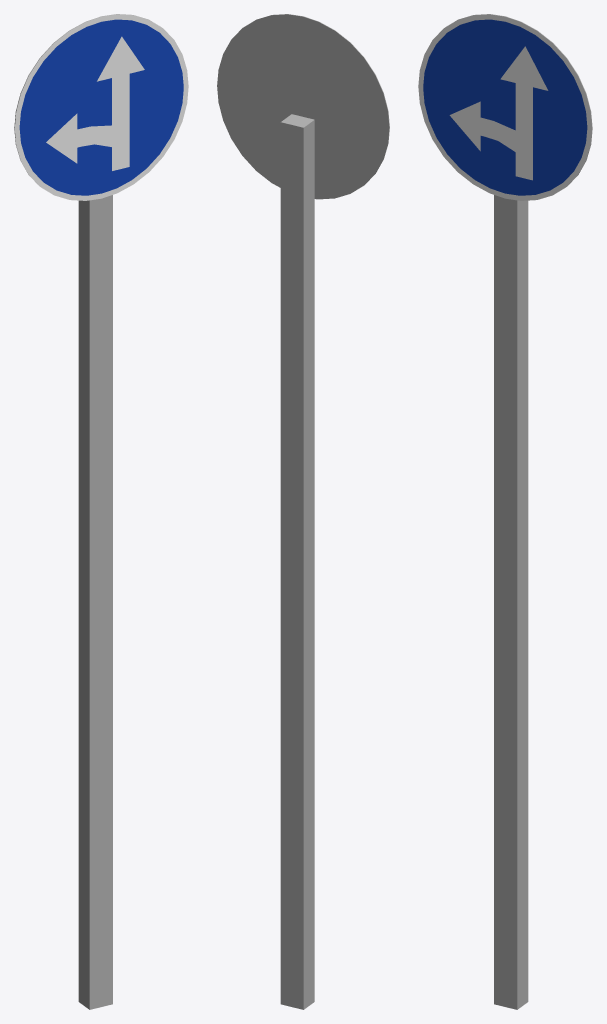
File: lft.DAE
3 views of the same model, side by side, from view 1: azimuth 30°, elevation 25°; view 2: azimuth 150°, elevation 25°; view 3: azimuth 330°, elevation 25° (orthographic).
Visible parts, largest first — view 1: solaFBXASC032ileri; view 2: solaFBXASC032ileri; view 3: solaFBXASC032ileri.
Boxes of the visible parts, box(x1,y1,x2,y2) form: solaFBXASC032ileri: box(14, 14, 188, 1009); solaFBXASC032ileri: box(217, 14, 389, 1009); solaFBXASC032ileri: box(418, 14, 592, 1009).
Size of the model in its own units: 17.72 by 96.46 by 2.05.
